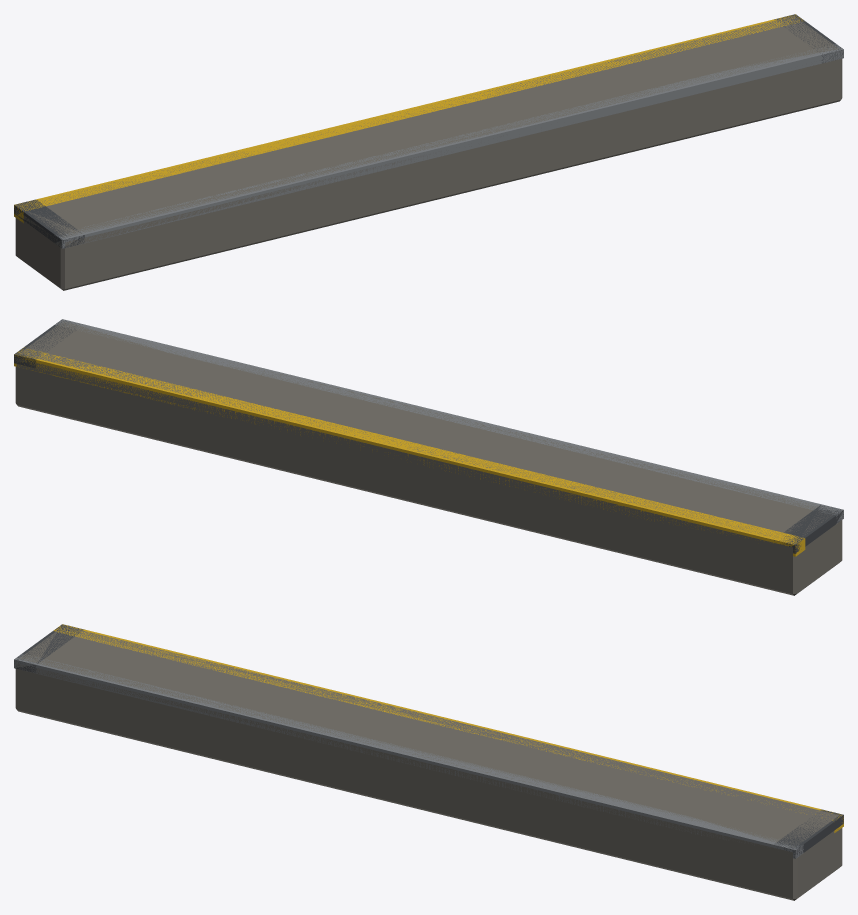
File: bunker_stair_step.fbx
3 views of the same model, one above another, from view 1: azimuth 30°, elevation 25°; view 2: azimuth 150°, elevation 25°; view 3: azimuth 330°, elevation 25° (orthographic).
Visible parts, largest first — view 1: bunker_stair_step; view 2: bunker_stair_step; view 3: bunker_stair_step.
Part boxes in pixels (x1=…): bunker_stair_step: x1=14, y1=14, x2=843, y2=290; bunker_stair_step: x1=14, y1=319, x2=843, y2=595; bunker_stair_step: x1=14, y1=624, x2=843, y2=900.
Bounding box in the file's own units: 2.8 × 0.18 × 0.3.
